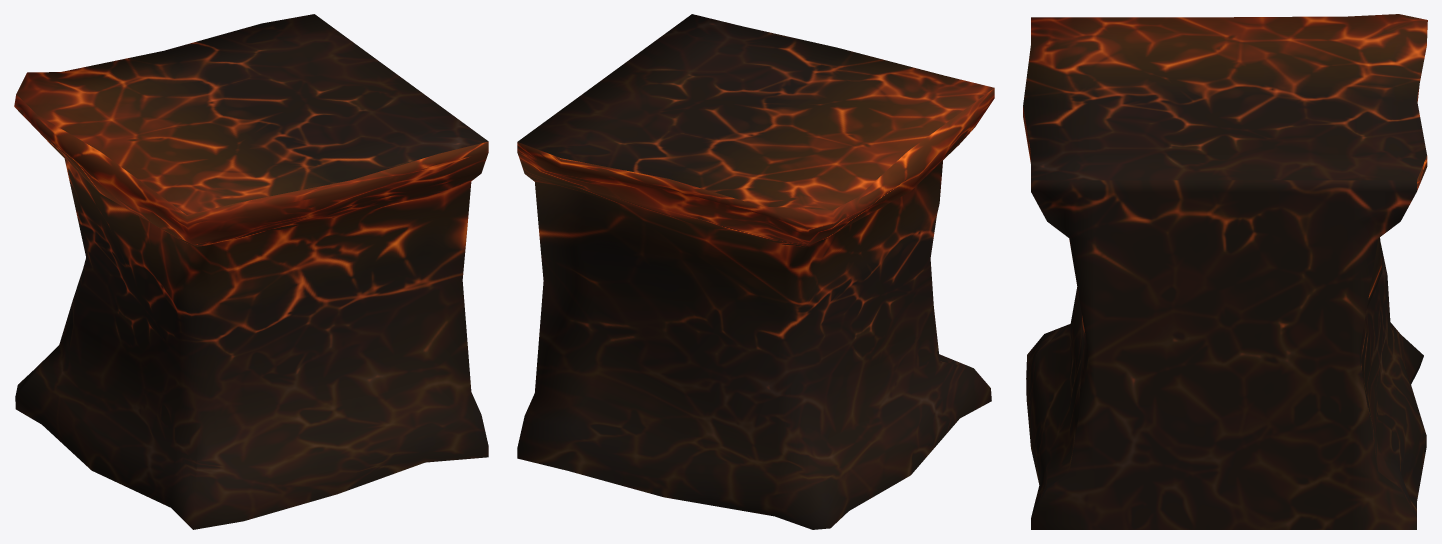
Rendered from wall_06_dead_D.fbx.
The picture shows the model from 3 angles, left to right: view 1: azimuth 30°, elevation 25°; view 2: azimuth 150°, elevation 25°; view 3: azimuth 270°, elevation 25°; orthographic projection. The views are drawn at different scales.
Parts seen in each view (by area): view 1: wall_06; view 2: wall_06; view 3: wall_06.
Part boxes in pixels (x1=…): wall_06: x1=14, y1=14, x2=488, y2=529; wall_06: x1=517, y1=14, x2=994, y2=529; wall_06: x1=1023, y1=14, x2=1427, y2=529.
Bounding box in the file's own units: 105 × 103 × 105.
